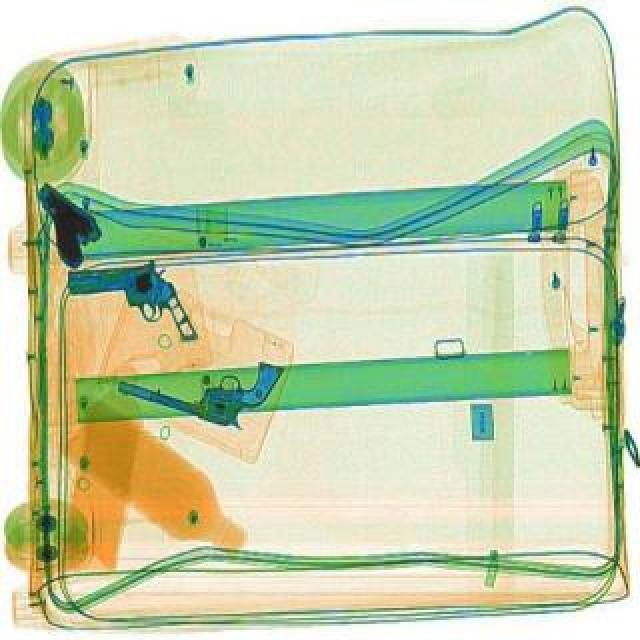gun: (114, 330, 286, 434), (52, 240, 222, 344), (14, 172, 112, 272)
